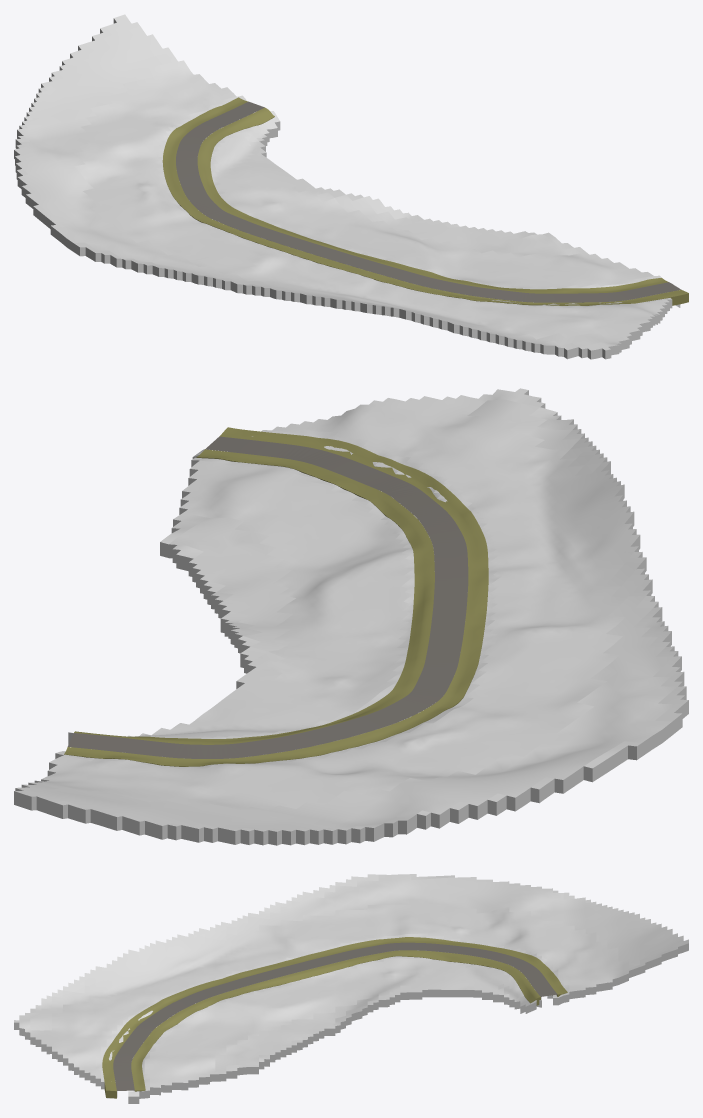
The model's file is conz_110.glb.
3 views of the same model, one above another, from view 1: azimuth 30°, elevation 25°; view 2: azimuth 150°, elevation 25°; view 3: azimuth 270°, elevation 25° (orthographic). The views are drawn at different scales.
Visible parts, largest first — view 1: terrain110, road110, verge110L, verge110R; view 2: terrain110, road110, verge110L, verge110R; view 3: terrain110, road110, verge110R, verge110L.
Part boxes in pixels (box(x1,y1,x2,y2)): terrain110: box(14, 14, 680, 359); road110: box(176, 101, 680, 302); verge110L: box(162, 97, 688, 305); verge110R: box(197, 107, 668, 293); terrain110: box(14, 388, 688, 845); road110: box(67, 436, 468, 758); verge110L: box(64, 427, 488, 766); verge110R: box(74, 449, 434, 744); terrain110: box(14, 874, 688, 1103); road110: box(113, 942, 557, 1090); verge110R: box(131, 950, 540, 1091); verge110L: box(102, 937, 567, 1098).
Size of the model in its own units: 160 by 29.73 by 248.
